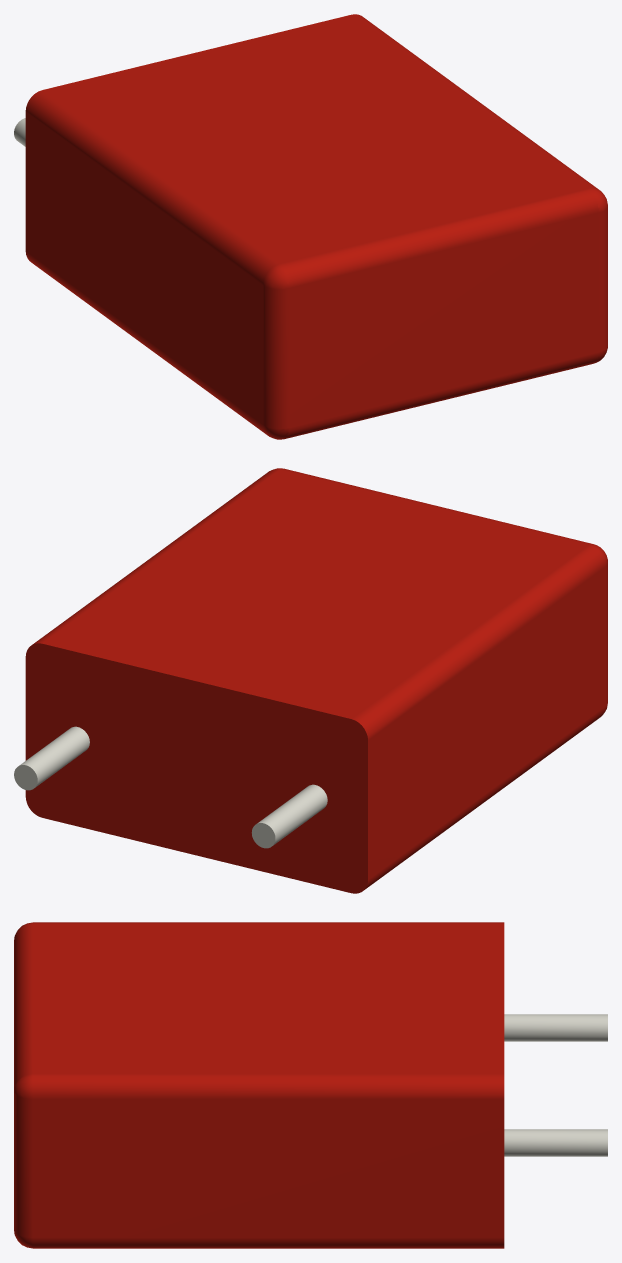
File: c-rect-l7.2-w3.5-p5.00-fks2-fkp2-mks2-mkp2.glb
3 renders of one model, top to bottom at view 1: azimuth 30°, elevation 25°; view 2: azimuth 150°, elevation 25°; view 3: azimuth 270°, elevation 25°, orthographic.
Parts seen in each view (by area): view 1: RED-BODY; view 2: RED-BODY, PIN-01; view 3: RED-BODY, PIN-01.
Part boxes in pixels (x1=…): RED-BODY: x1=25, y1=14, x2=607, y2=439; RED-BODY: x1=25, y1=468, x2=607, y2=893; PIN-01: x1=14, y1=726, x2=327, y2=848; RED-BODY: x1=14, y1=922, x2=504, y2=1248; PIN-01: x1=504, y1=1014, x2=607, y2=1156.
Size of the model in its own units: 7.2 by 3.5 by 10.9.
